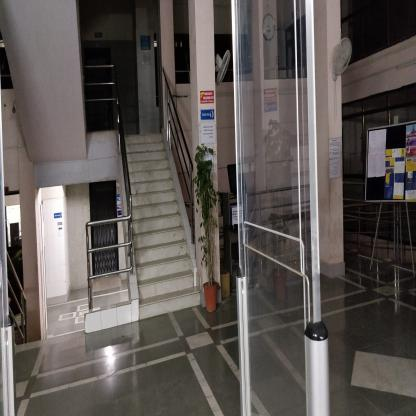stairs: (140, 184, 175, 325)
